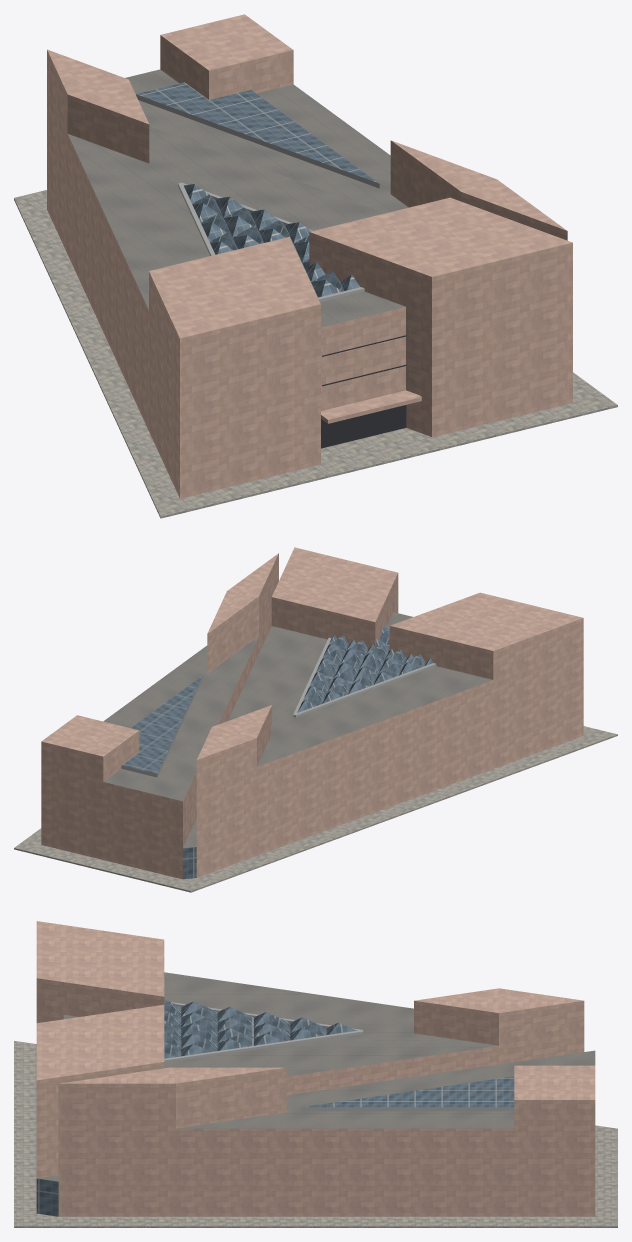
File: national_gallery_east.glb
3 views of the same model, one above another, from view 1: azimuth 30°, elevation 25°; view 2: azimuth 150°, elevation 25°; view 3: azimuth 270°, elevation 25° (orthographic). The views are drawn at different scales.
Visible parts, largest first — view 1: national_gallery_east; view 2: national_gallery_east; view 3: national_gallery_east.
Boxes of the visible parts, bbox=[...] form: national_gallery_east: bbox=[14, 14, 617, 518]; national_gallery_east: bbox=[14, 547, 617, 892]; national_gallery_east: bbox=[14, 921, 617, 1227].
Bounding box in the file's own units: 97.4 × 32.99 × 134.
Materials: 5 (5 with a texture image).
